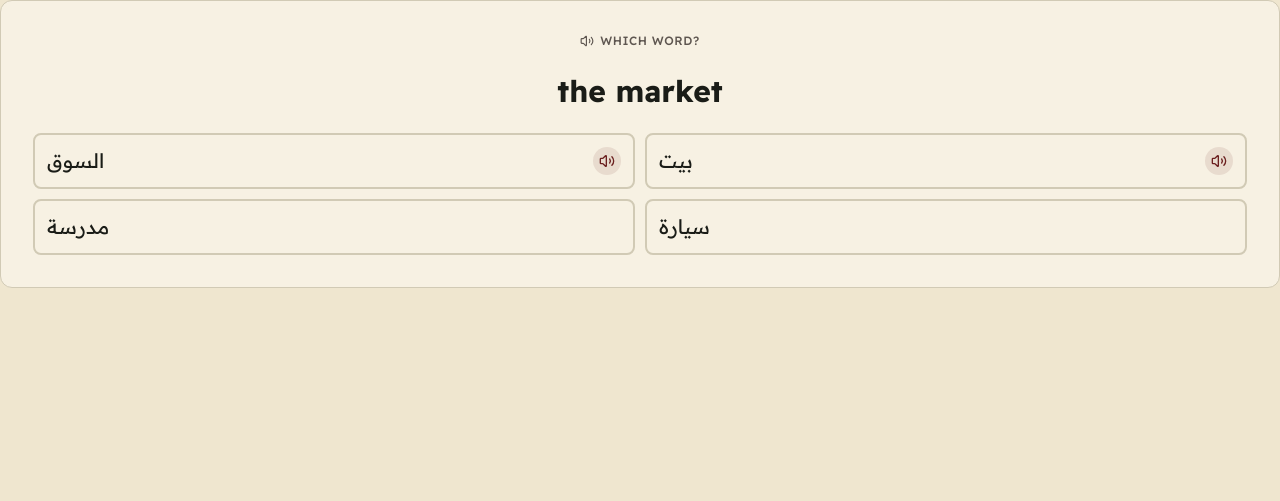
pick the word › asks from the meaning when there is no picture, with nothing to hint
The width and height of the screenshot is (1280, 501).
Expected: the text "the market" is shown, [557, 72, 723, 110]
Click the radio button labelled "سيارة". click: coordinates (946, 227)
box: [645, 199, 1247, 255]
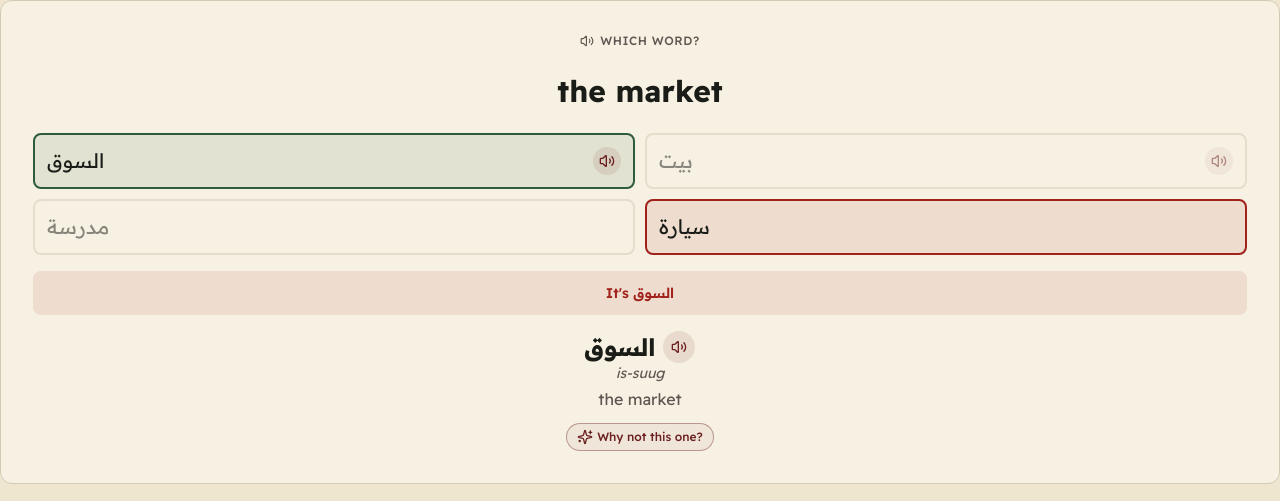
Result: the message reads "It's السوق" at [606, 284, 674, 302]
